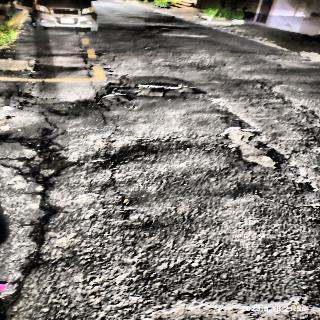crack: (76, 35, 318, 314), (1, 134, 83, 319), (253, 190, 320, 225)
